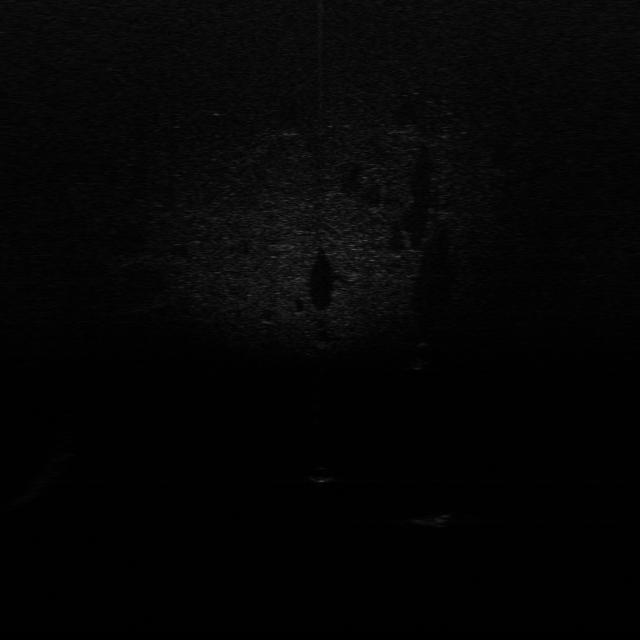ball: (304, 462, 338, 487)
square cage: (414, 506, 460, 530)
tyre: (406, 341, 436, 370)
